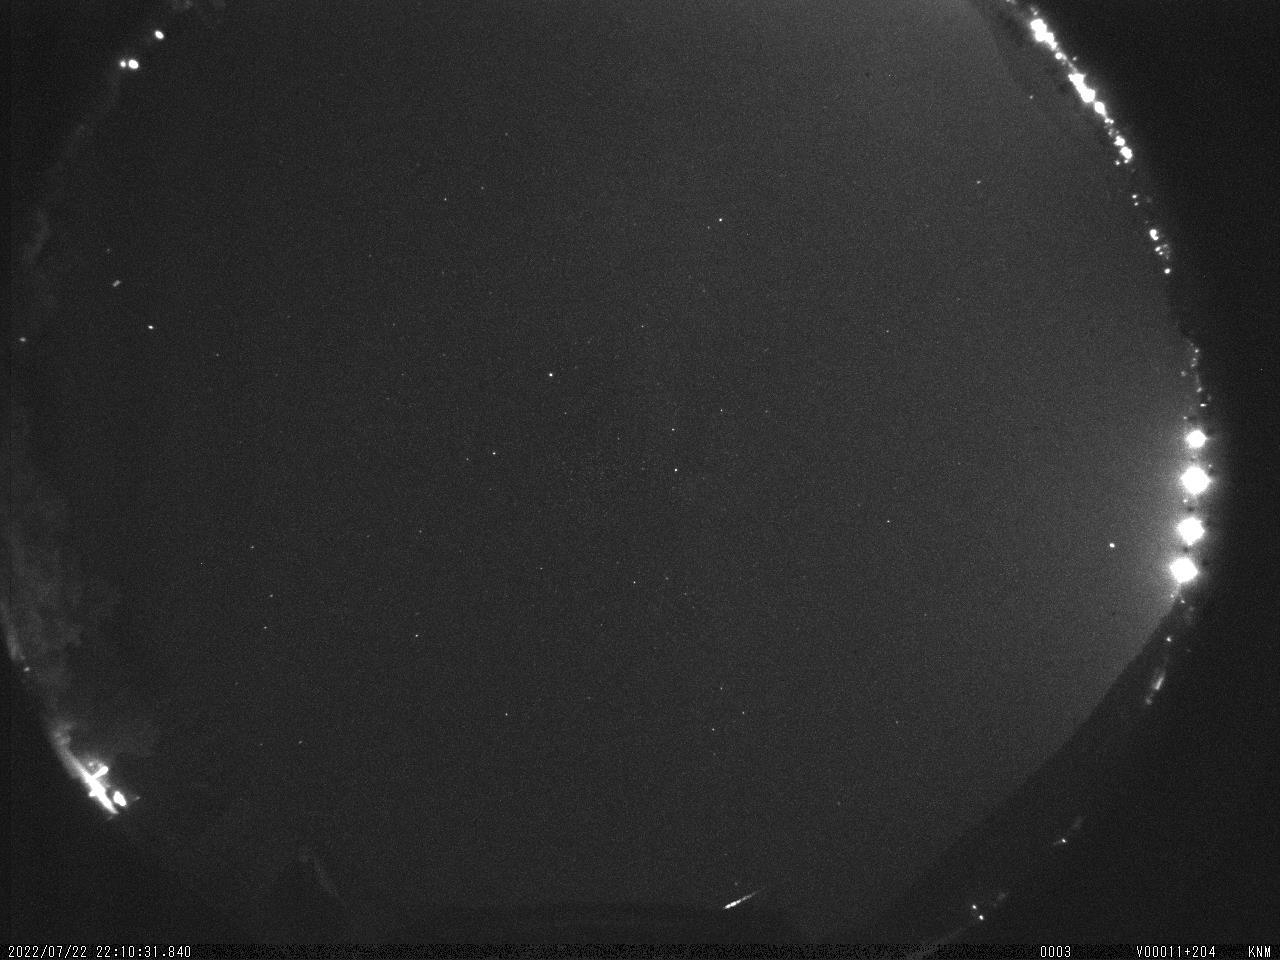Meteor: (723, 887, 764, 911)
